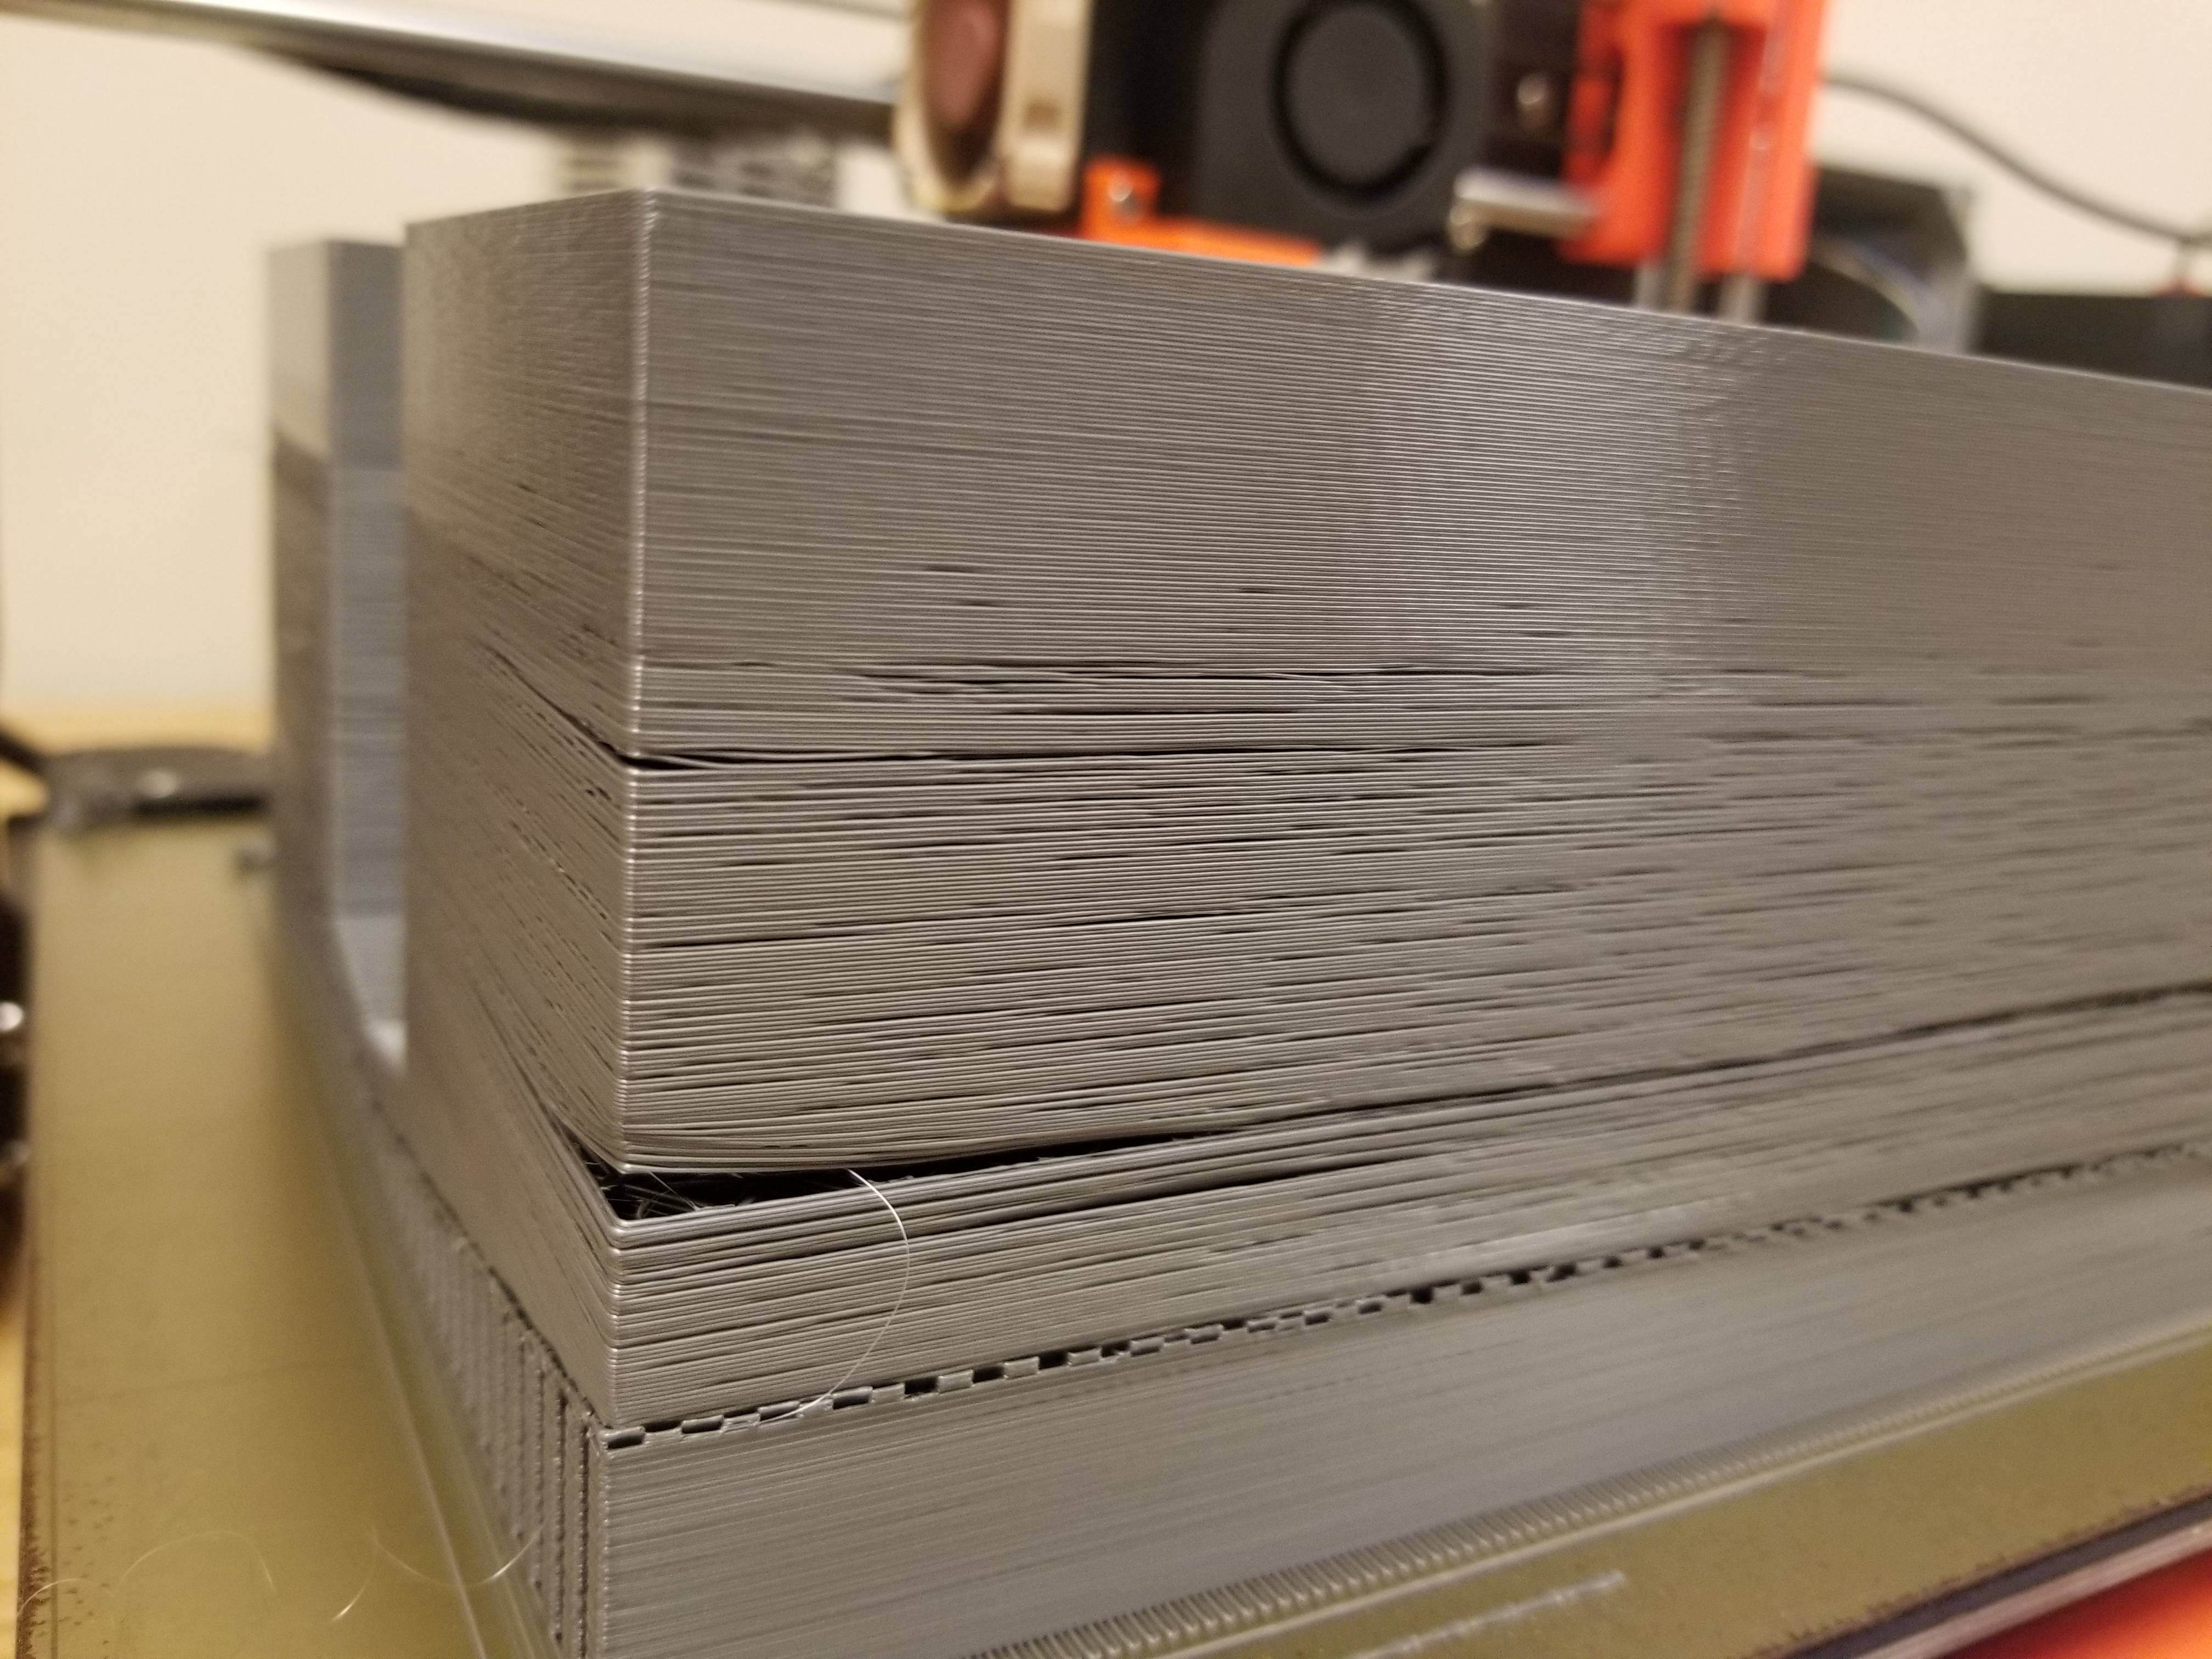crack: (428, 572, 1341, 1400), (1498, 612, 2148, 1333)
